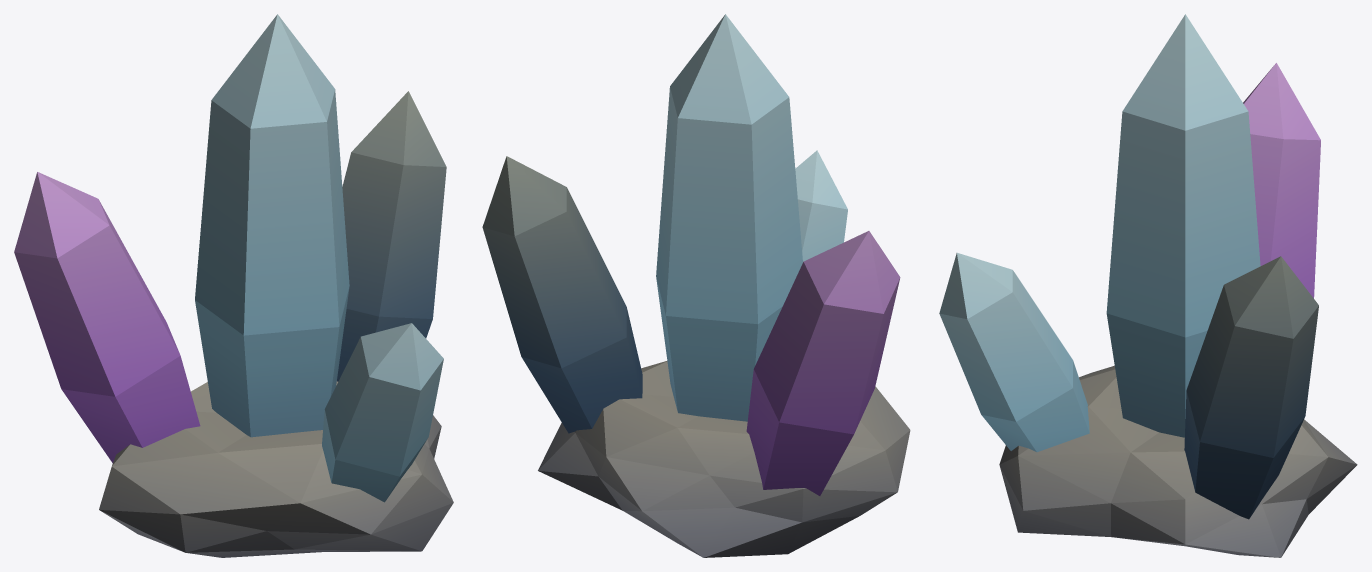
File: item_crystal_raw.glb
3 views of the same model, side by side, from view 1: azimuth 30°, elevation 25°; view 2: azimuth 150°, elevation 25°; view 3: azimuth 270°, elevation 25° (orthographic). The views are drawn at different scales.
Parts seen in each view (by area): view 1: item_crystal_raw; view 2: item_crystal_raw; view 3: item_crystal_raw.
Boxes of the visible parts, x1=… form: item_crystal_raw: x1=14, y1=14, x2=453, y2=557; item_crystal_raw: x1=482, y1=14, x2=910, y2=557; item_crystal_raw: x1=939, y1=14, x2=1357, y2=557.
Size of the model in its own units: 1.26 by 1.52 by 1.11.
1 material, 1 textured.
